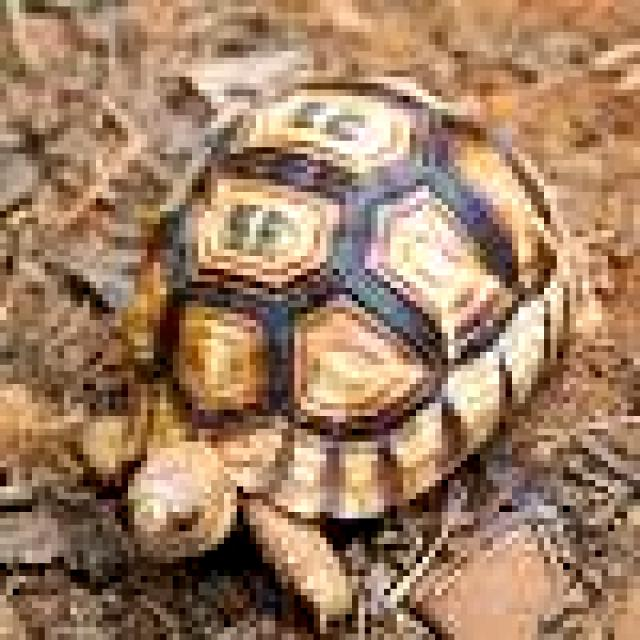Sea turtle: (0, 65, 581, 633)
